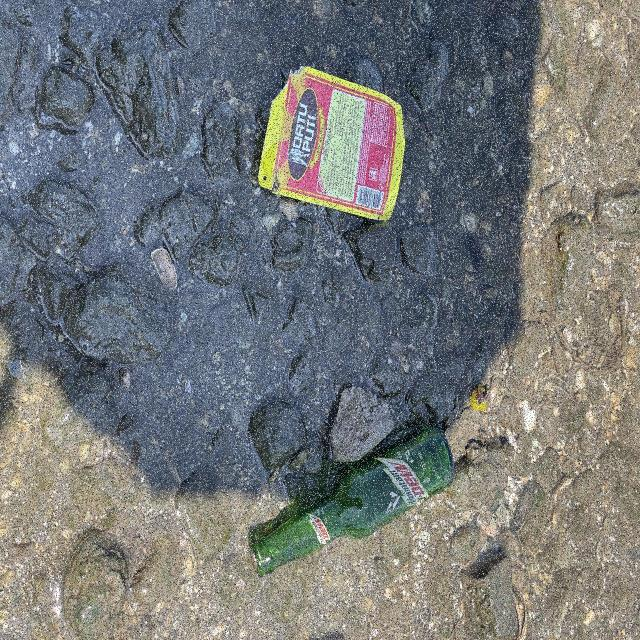glass_waste: (254, 424, 462, 580)
plastic_waste: (263, 67, 405, 222)
